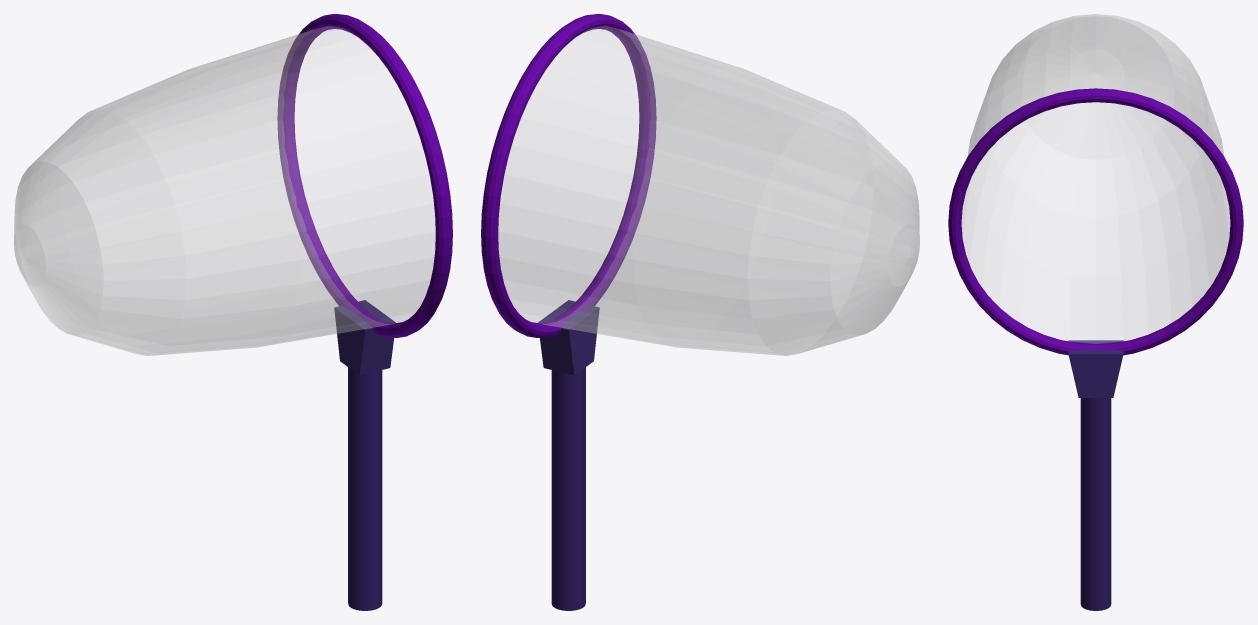
Rendered from WitchWeapon.fbx.
The picture shows the model from 3 angles, left to right: view 1: azimuth 30°, elevation 25°; view 2: azimuth 150°, elevation 25°; view 3: azimuth 270°, elevation 25°; orthographic projection. The views are drawn at different scales.
Parts seen in each view (by area): view 1: 立方体; view 2: 立方体; view 3: 立方体.
Boxes of the visible parts, <box> form: 立方体: <box>14,14,452,610</box>; 立方体: <box>481,14,919,610</box>; 立方体: <box>948,14,1243,610</box>.
Size of the model in its own units: 1321 by 2044 by 1063.
